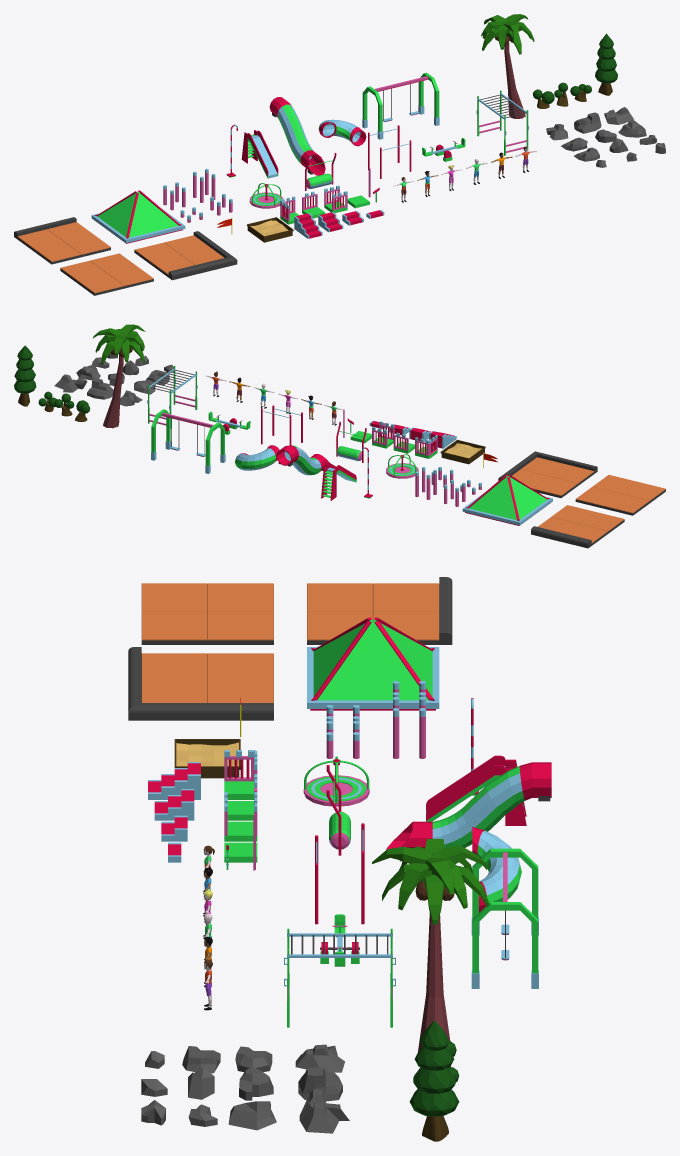
The model's file is Low Poly Playground Display.fbx.
The picture shows the model from 3 angles, top to bottom: view 1: azimuth 30°, elevation 25°; view 2: azimuth 150°, elevation 25°; view 3: azimuth 270°, elevation 25°; orthographic projection. The views are drawn at different scales.
Parts seen in each view (by area): view 1: Playground Display; view 2: Playground Display; view 3: Playground Display.
Boxes of the visible parts, x1,y1,x2,y2 form: Playground Display: [14, 14, 665, 295]; Playground Display: [14, 324, 665, 548]; Playground Display: [128, 577, 551, 1141].
Bounding box in the file's own units: 4027 × 661 × 1280.
